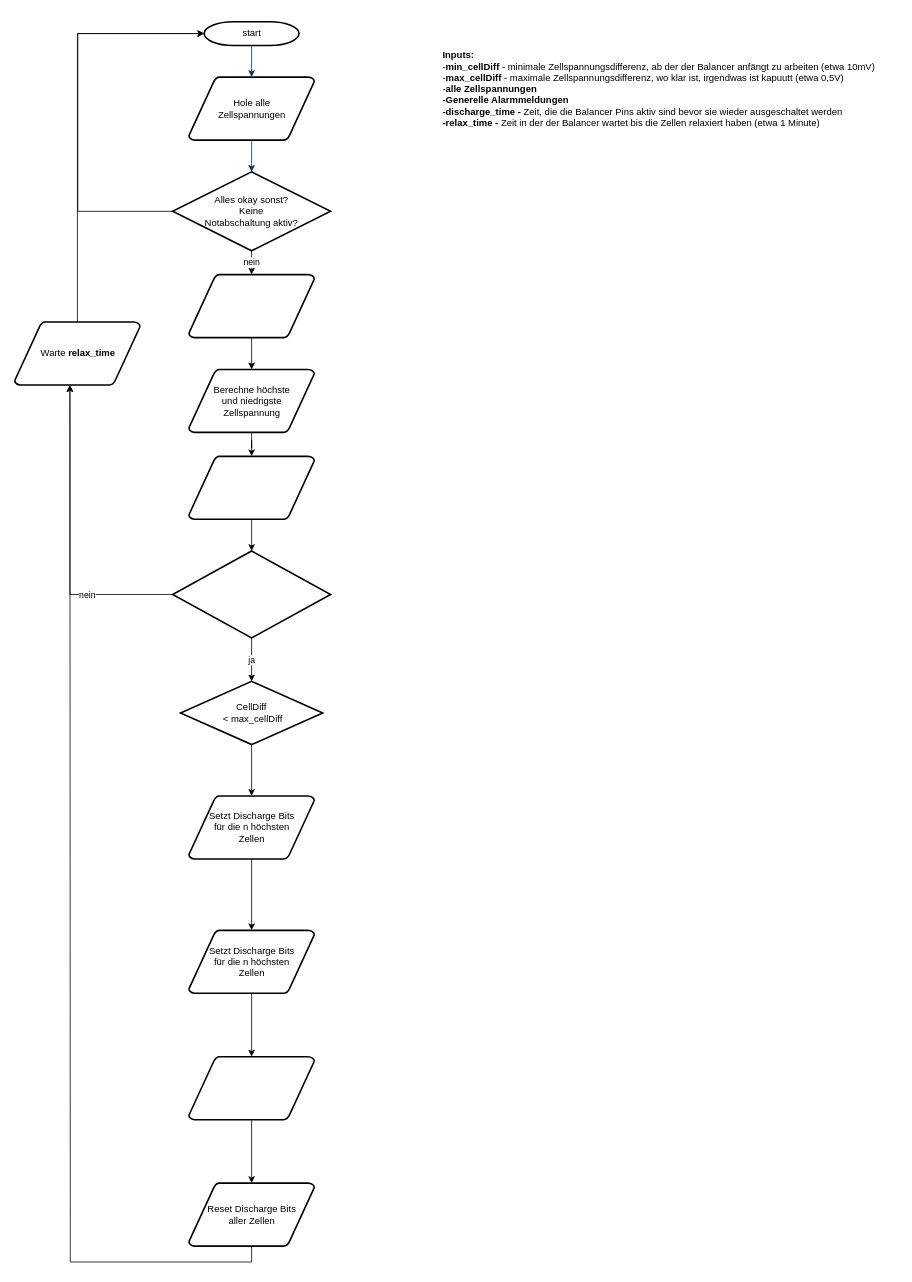
This 912x1282 diagram has some shape labels left out. Each missing label, with the centre of its shape:
Berechne höchste n Zellspannungen und merke die Zellen: the point at 251,305
CellDiff > min_cellDiff: the point at 251,594
Höchste - niedrigste = CellDiff: the point at 251,487
Warte discharge_time: the point at 251,1087
